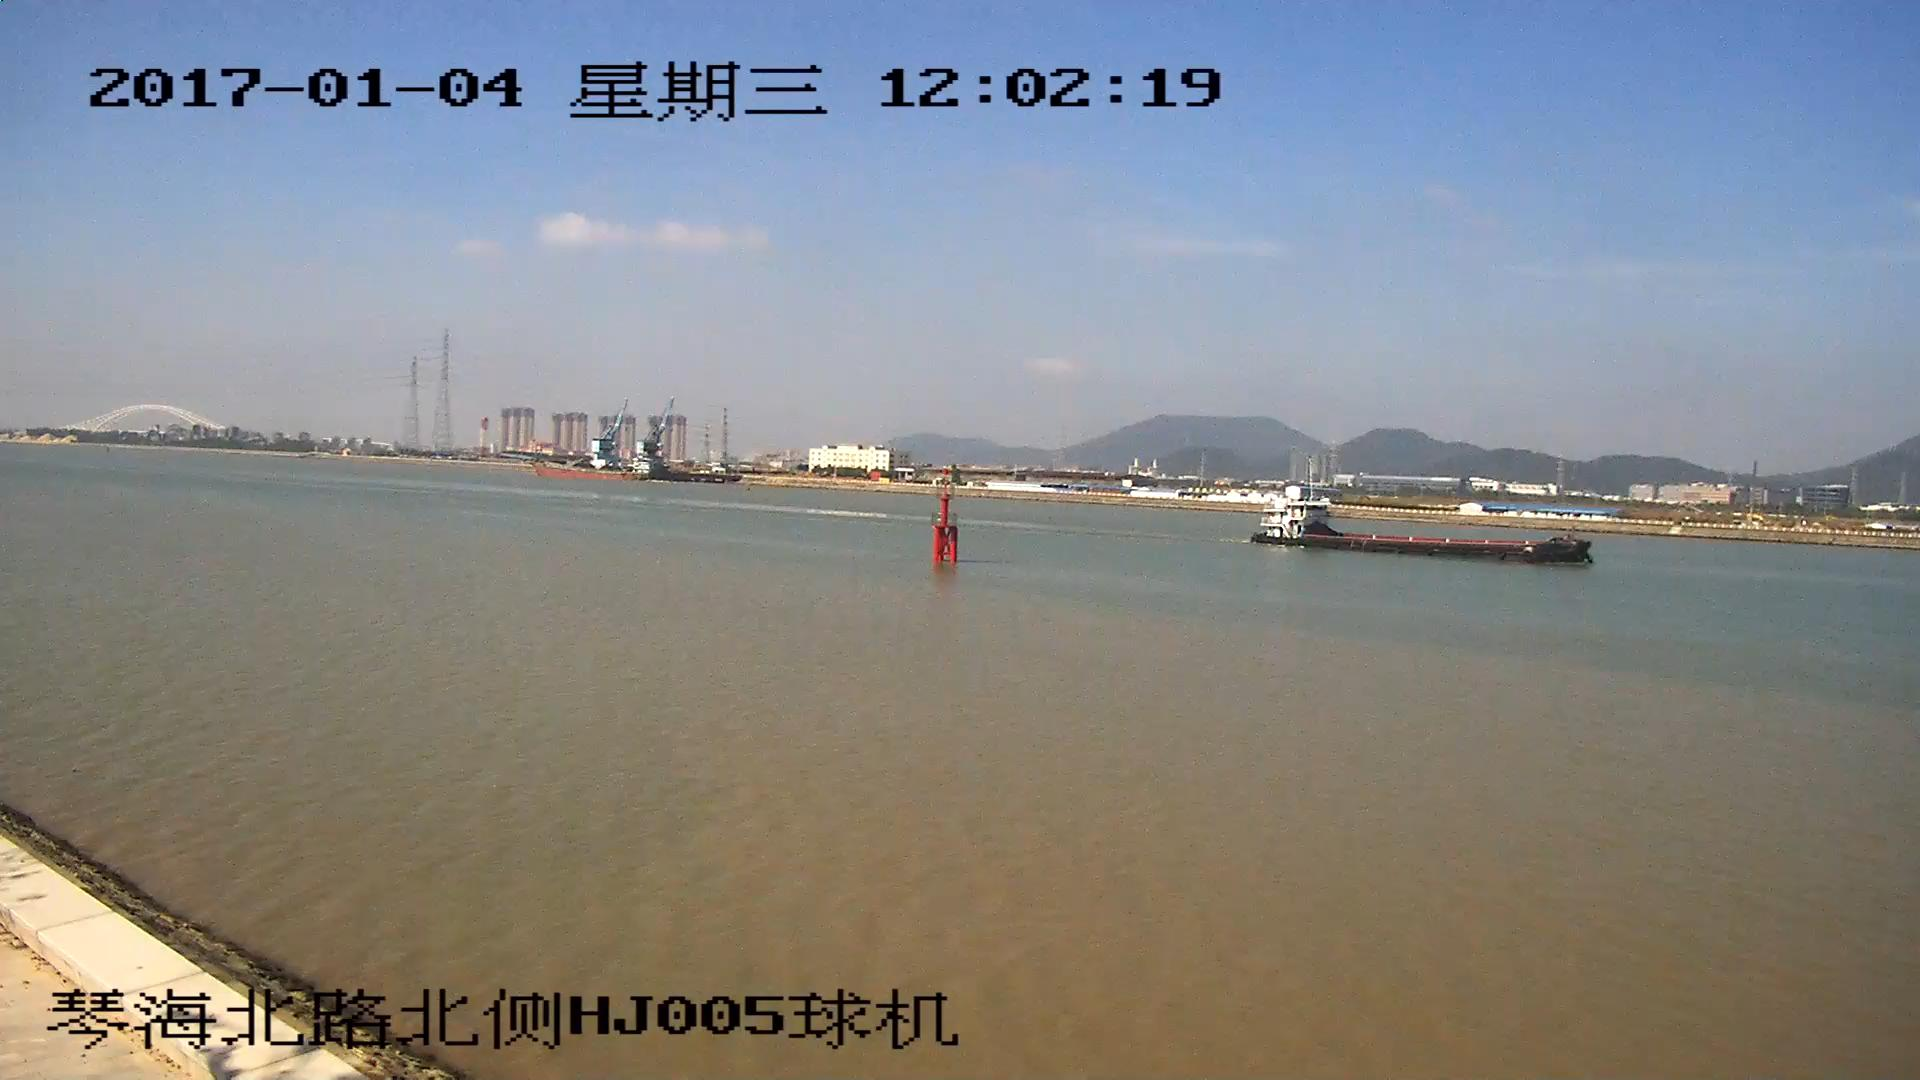general cargo ship: (1251, 494, 1594, 567)
